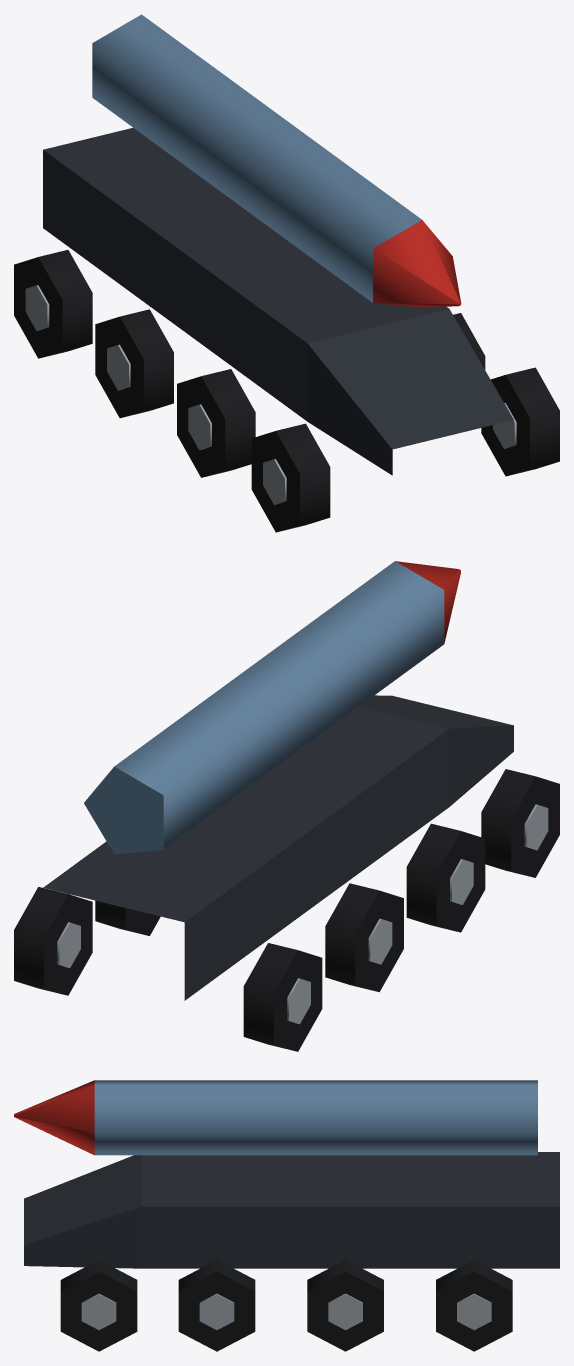
Rendered from veh_ground_missile_carrier_a09_lod1.glb.
3 views of the same model, one above another, from view 1: azimuth 30°, elevation 25°; view 2: azimuth 150°, elevation 25°; view 3: azimuth 270°, elevation 25° (orthographic). The views are drawn at different scales.
Visible parts, largest first — view 1: body, launcher, wheel_6, wheel_2, wheel_0, wheel_4, wheel_7; view 2: body, launcher, wheel_4, wheel_0, wheel_1, wheel_2, wheel_6, wheel_3; view 3: body, launcher, wheel_5, wheel_7, wheel_1, wheel_3.
Part boxes in pixels (bbox=[...]): body: bbox=[43, 127, 513, 475]; launcher: bbox=[92, 14, 461, 307]; wheel_6: bbox=[251, 423, 330, 532]; wheel_2: bbox=[95, 309, 173, 418]; wheel_0: bbox=[14, 250, 92, 358]; wheel_4: bbox=[177, 369, 255, 477]; wheel_7: bbox=[481, 367, 559, 476]; body: bbox=[43, 695, 513, 1000]; launcher: bbox=[84, 561, 460, 854]; wheel_4: bbox=[406, 823, 485, 932]; wheel_0: bbox=[243, 943, 322, 1051]; wheel_1: bbox=[14, 887, 92, 995]; wheel_2: bbox=[325, 883, 403, 992]; wheel_6: bbox=[481, 769, 559, 877]; wheel_3: bbox=[95, 900, 160, 935]; body: bbox=[24, 1152, 559, 1268]; launcher: bbox=[14, 1080, 537, 1155]; wheel_5: bbox=[178, 1260, 255, 1351]; wheel_7: bbox=[60, 1260, 137, 1351]; wheel_1: bbox=[436, 1260, 512, 1351]; wheel_3: bbox=[307, 1260, 383, 1351].
Size of the model in its own units: 2.98 by 3.03 by 6.78.
